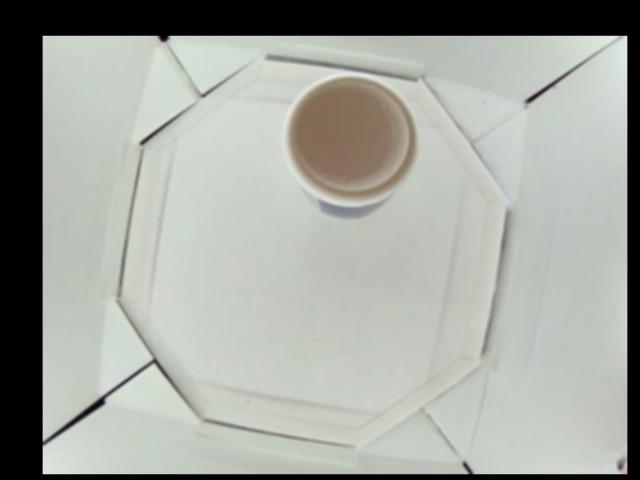Bottle: (281, 72, 413, 219)
